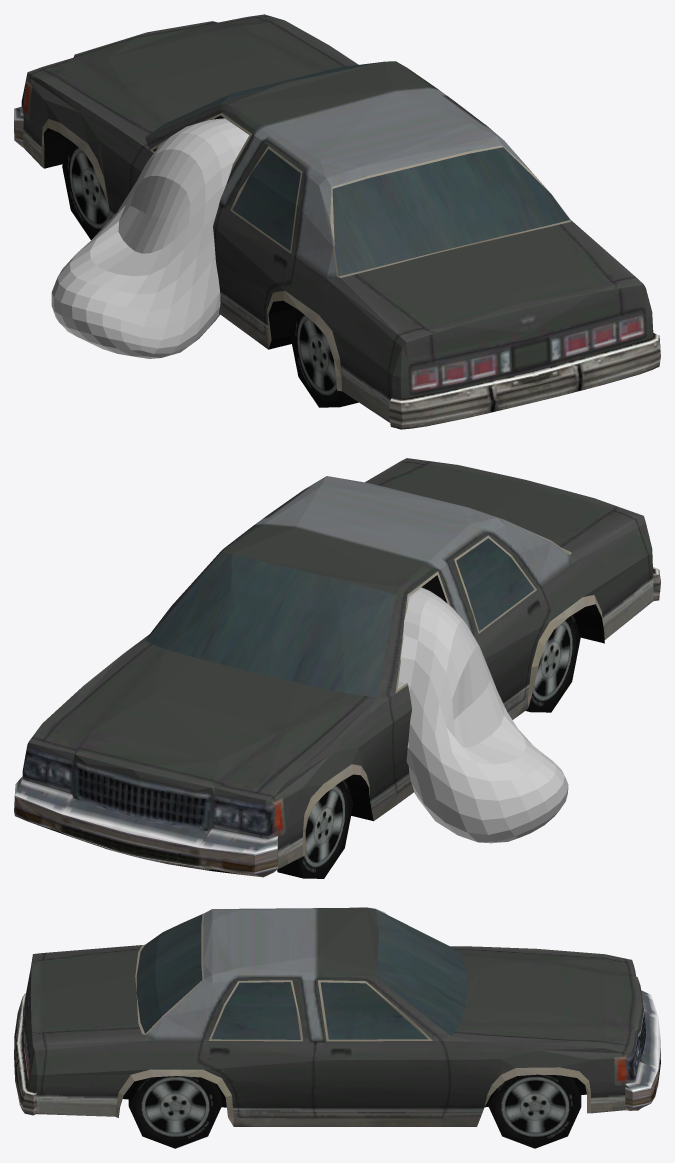
File: CarroCmCimento.fbx
The picture shows the model from 3 angles, top to bottom: view 1: azimuth 30°, elevation 25°; view 2: azimuth 150°, elevation 25°; view 3: azimuth 270°, elevation 25°; orthographic projection. The views are drawn at different scales.
Parts seen in each view (by area): view 1: car3, Cube; view 2: car3, Cube; view 3: car3.
Part boxes in pixels (x1,y1,x2,y2): car3: (14, 14, 660, 429); Cube: (51, 118, 249, 358); car3: (14, 458, 660, 878); Cube: (397, 587, 568, 843); car3: (14, 907, 660, 1148).
Bounding box in the file's own units: 225 × 120 × 414.
